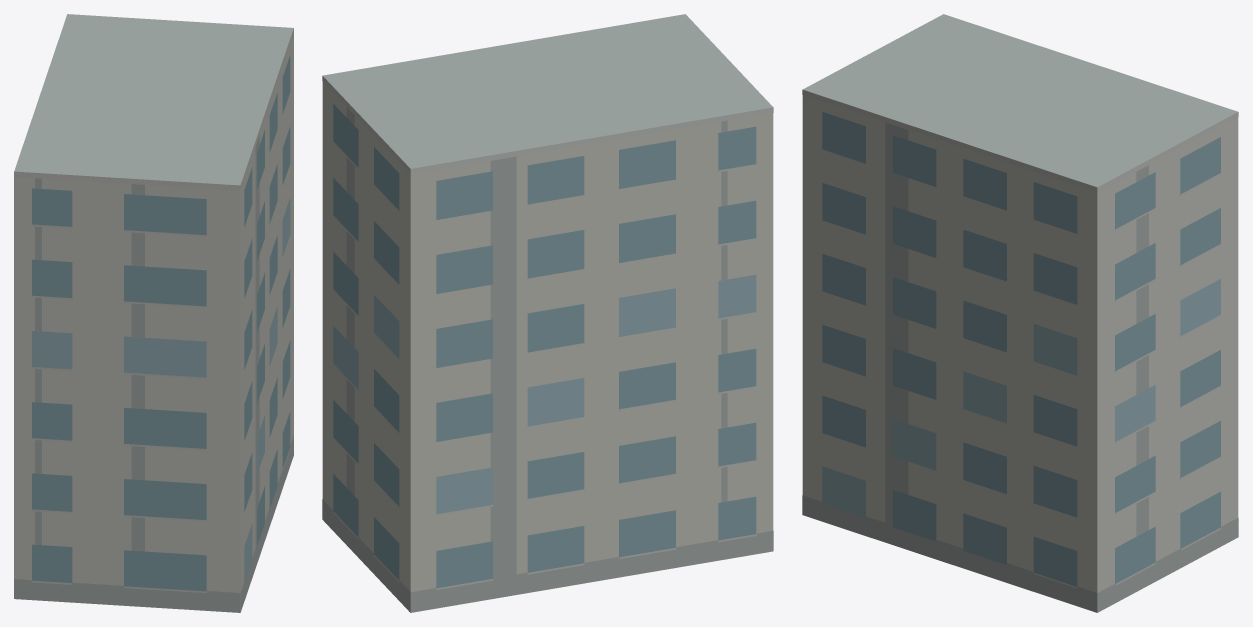
File: survey-upis-32847569.glb
3 views of the same model, side by side, from view 1: azimuth 30°, elevation 25°; view 2: azimuth 150°, elevation 25°; view 3: azimuth 270°, elevation 25° (orthographic). The views are drawn at different scales.
Parts seen in each view (by area): view 1: survey-upis-32847569.tmp; view 2: survey-upis-32847569.tmp; view 3: survey-upis-32847569.tmp.
Part boxes in pixels (x1,y1,x2,y2): survey-upis-32847569.tmp: [14, 14, 293, 612]; survey-upis-32847569.tmp: [322, 14, 773, 612]; survey-upis-32847569.tmp: [802, 14, 1238, 612].
Bounding box in the file's own units: 17.05 × 19.5 × 18.11.
